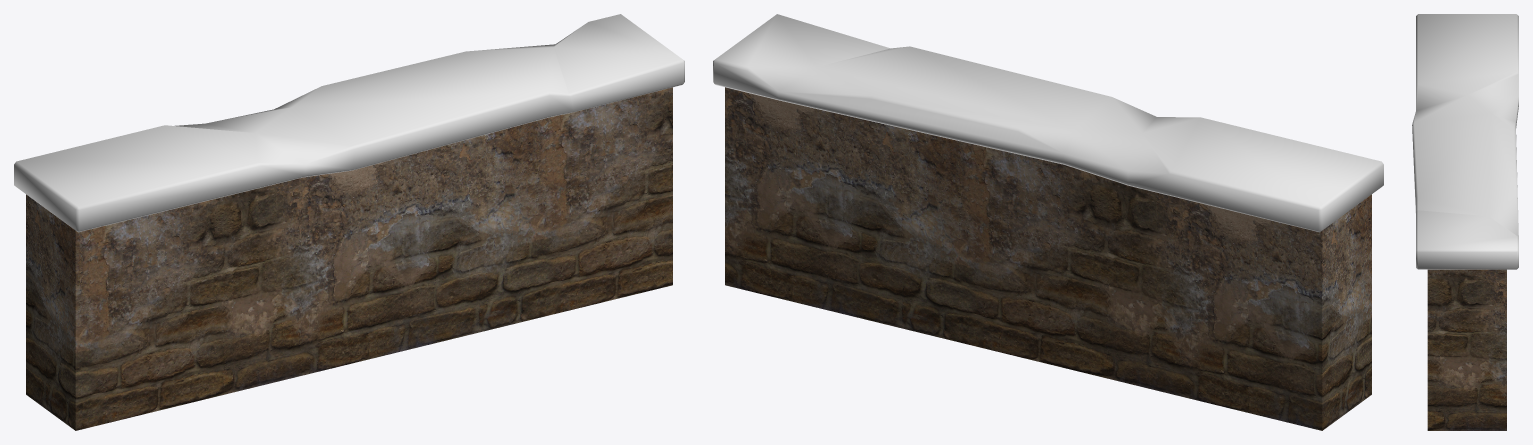
File: wall2_old.fbx
3 views of the same model, side by side, from view 1: azimuth 30°, elevation 25°; view 2: azimuth 150°, elevation 25°; view 3: azimuth 270°, elevation 25° (orthographic). The views are drawn at different scales.
Parts seen in each view (by area): view 1: polySurface16; view 2: polySurface16; view 3: polySurface16.
Part boxes in pixels (left/top/right/bottom): polySurface16: left=14, top=14, right=684, bottom=430; polySurface16: left=713, top=14, right=1383, bottom=430; polySurface16: left=1412, top=14, right=1518, bottom=430.
Size of the model in its own units: 6.28 by 2.29 by 1.19.
